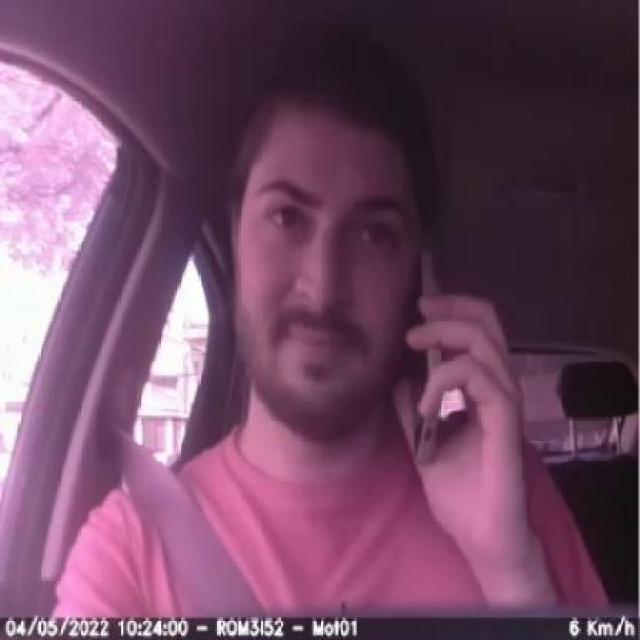using_phone: (308, 199, 532, 503)
